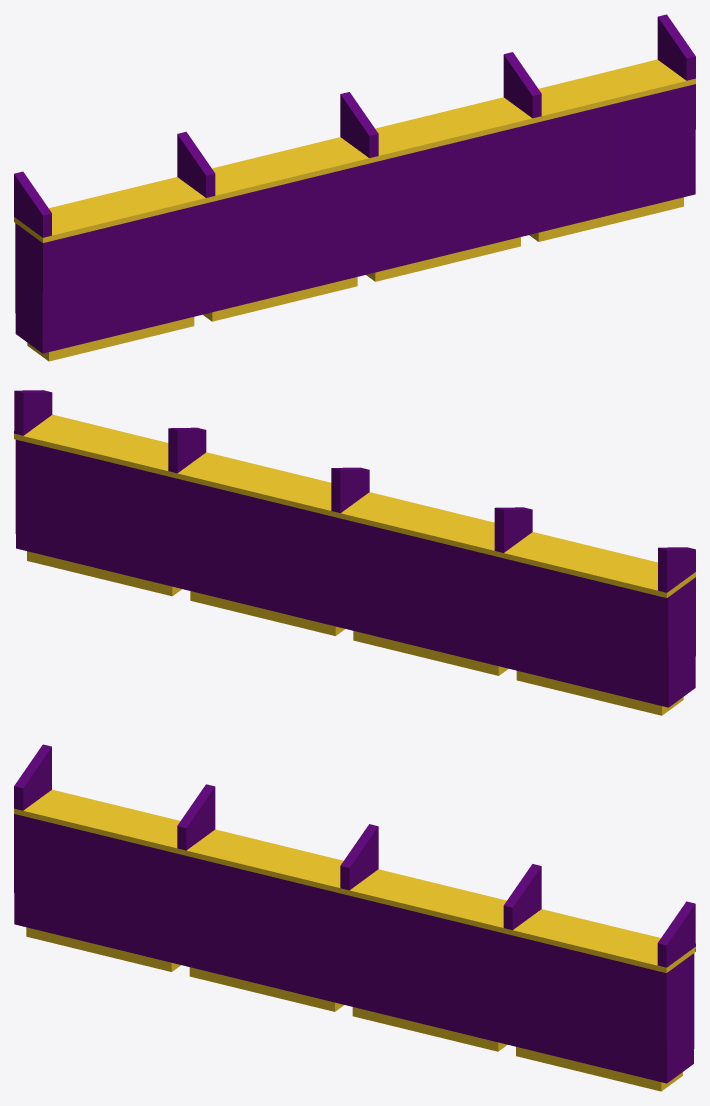
Rendered from Bancone_Cliente_fix.fbx.
3 renders of one model, top to bottom at view 1: azimuth 30°, elevation 25°; view 2: azimuth 150°, elevation 25°; view 3: azimuth 330°, elevation 25°, orthographic.
Visible parts, largest first — view 1: Bancone_Cliente; view 2: Bancone_Cliente; view 3: Bancone_Cliente.
Boxes of the visible parts, left/top/right/bottom form: Bancone_Cliente: left=14, top=14, right=695, bottom=361; Bancone_Cliente: left=14, top=390, right=695, bottom=715; Bancone_Cliente: left=14, top=744, right=695, bottom=1091.
Bounding box in the file's own units: 468 × 117 × 36.55.
